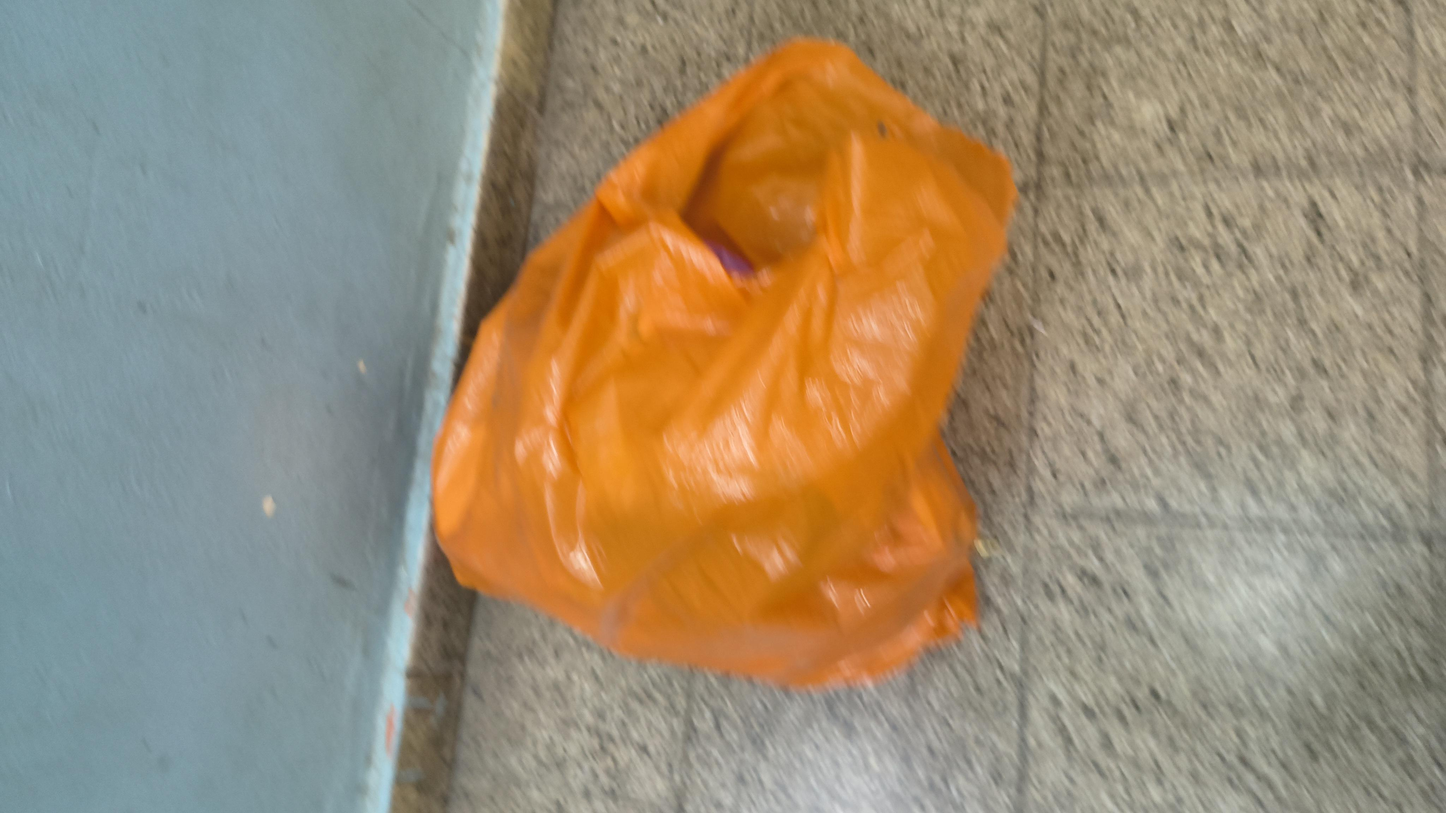Garbage: (188, 200, 1406, 657)
